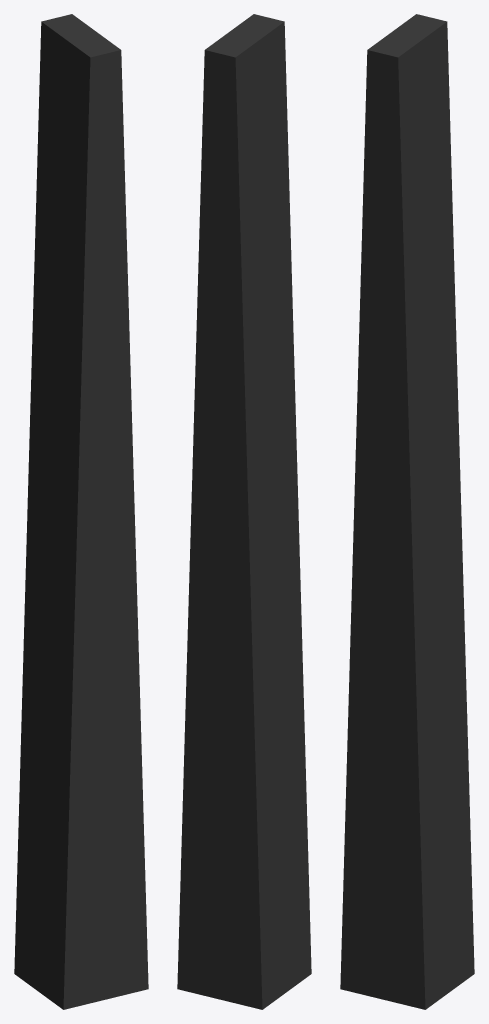
Rendered from Clock1_C1_02.fbx.
3 renders of one model, left to right at view 1: azimuth 30°, elevation 25°; view 2: azimuth 150°, elevation 25°; view 3: azimuth 330°, elevation 25°, orthographic.
Parts seen in each view (by area): view 1: Clock1_C1_02; view 2: Clock1_C1_02; view 3: Clock1_C1_02.
Boxes of the visible parts, bbox=[...] form: Clock1_C1_02: bbox=[14, 14, 148, 1009]; Clock1_C1_02: bbox=[177, 14, 311, 1009]; Clock1_C1_02: bbox=[340, 14, 474, 1009].
Bounding box in the file's own units: 2.31 × 24.5 × 2.31.
